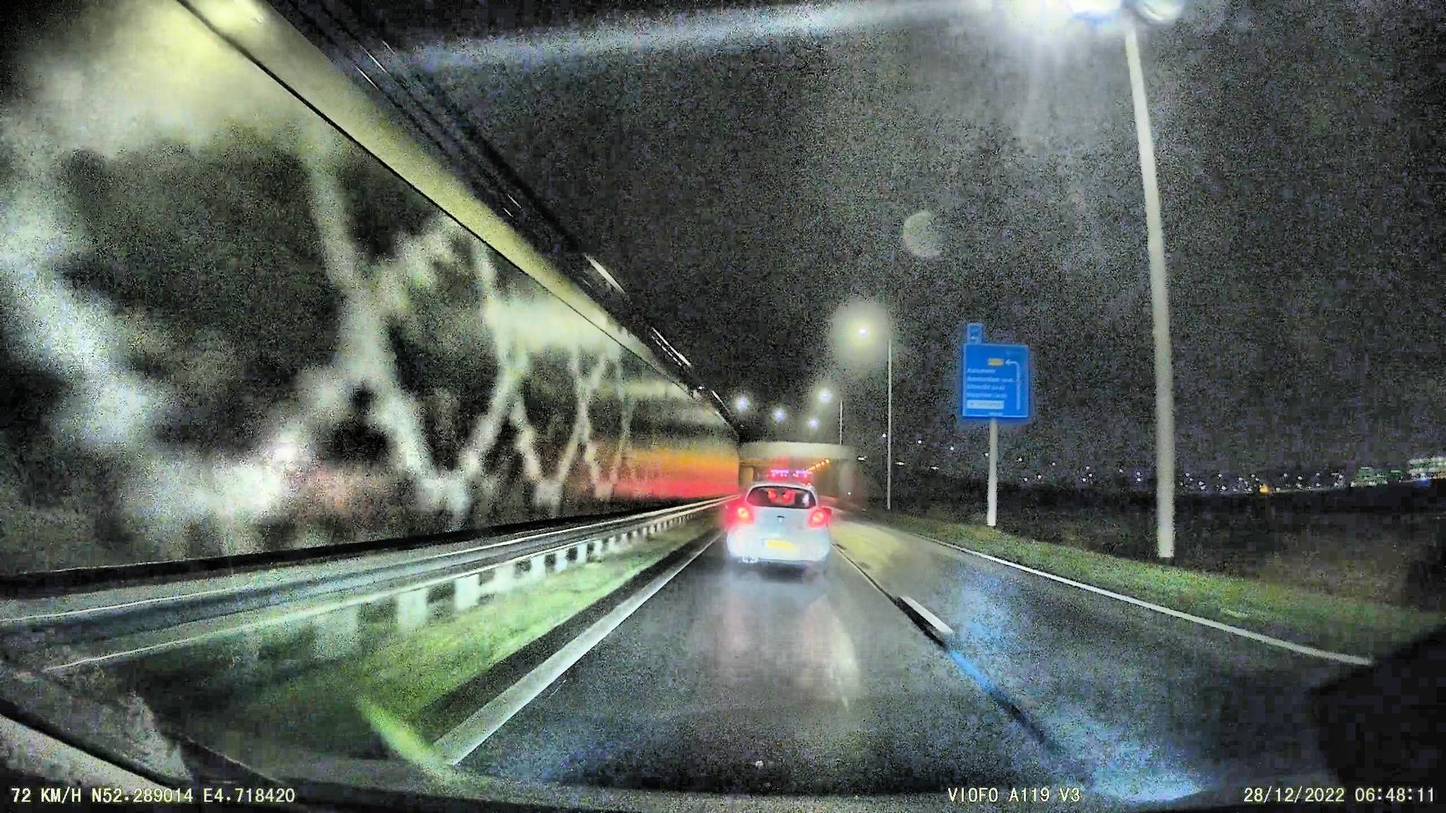Roads: (460, 523, 1357, 802)
